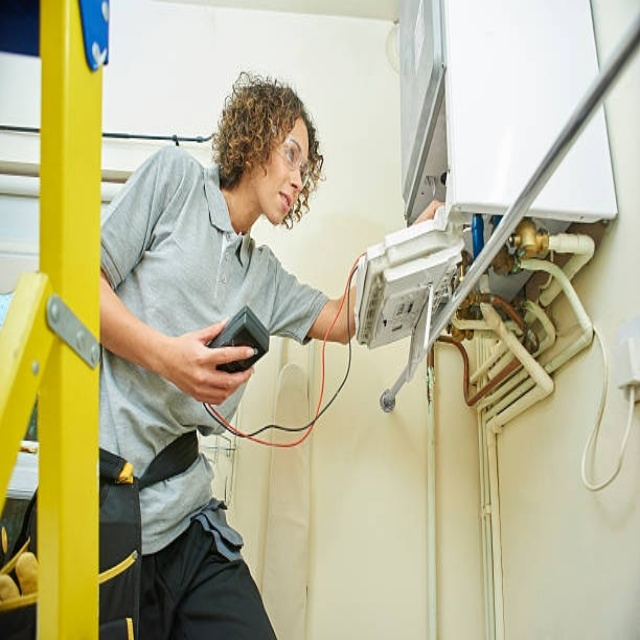Gafas: (275, 134, 309, 184)
Sin_guantes: (170, 315, 264, 407)
Sin_mascara: (266, 190, 297, 224)
